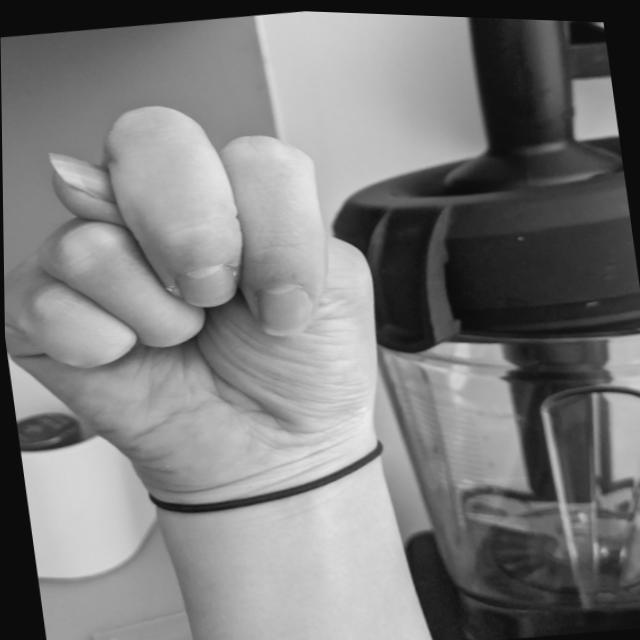N: (1, 68, 408, 513)
